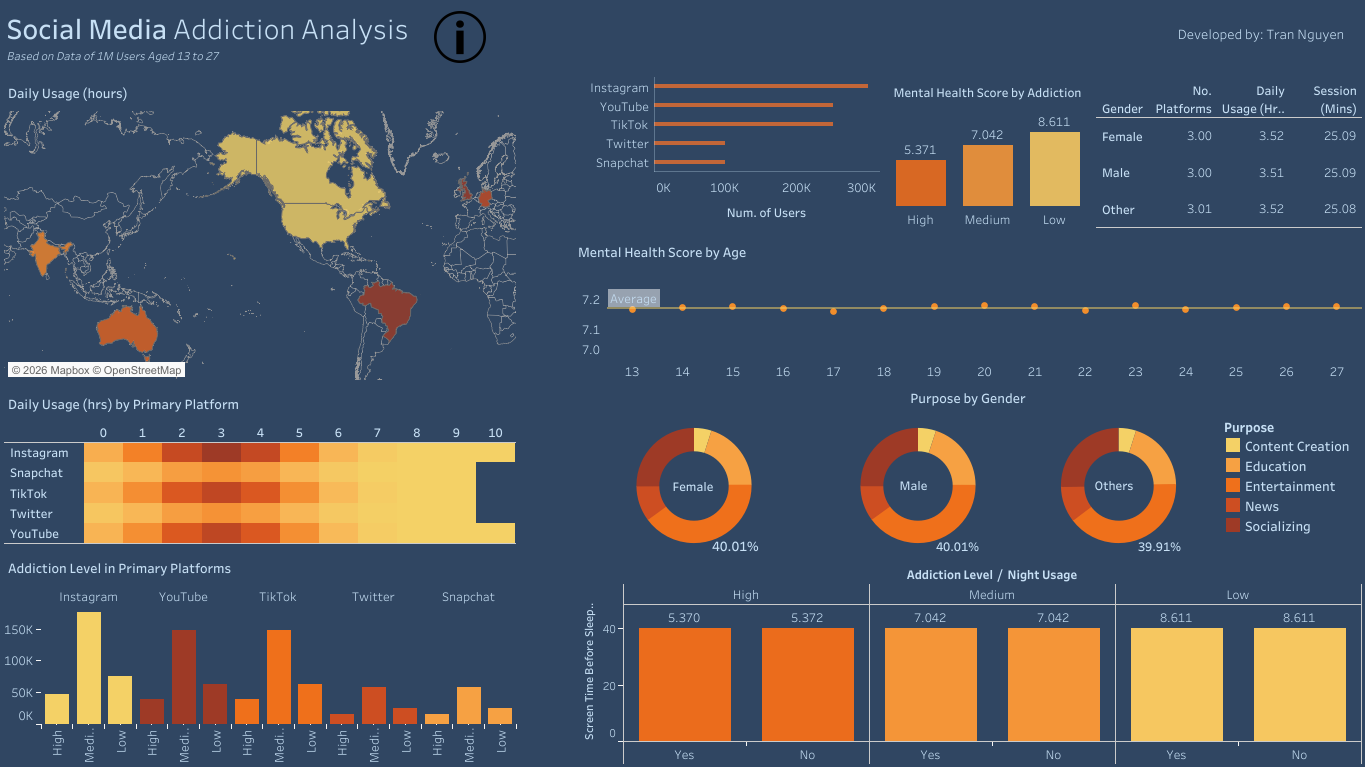

The dashboard page shown, as its layout file describes it:
{"tool":"tableau","page":{"name":"Dashboard 1","canvas":[1366,768],"ordinal":0},"visuals":[{"type":"text","box":[0,0,1366,73]},{"type":"dashboard-object","box":[423,11,74,52]},{"type":"worksheet","title":"Usage by Country","mark":"Automatic","box":[0,73,520,311]},{"type":"blank","box":[520,73,50,695]},{"type":"worksheet","title":"Acg Mental Health Score by Platforms","mark":"Bar","rows":["primary_platform"],"cols":["genz_social_media_usage_1M.csv_F48EEA701F0945E3A8766C4EE0268"],"box":[570,73,313,159]},{"type":"worksheet","title":"Mental Health by Additction Level","mark":"Automatic","rows":["mental_health_score"],"cols":["addiction_level"],"box":[883,73,208.8,159]},{"type":"worksheet","title":"Sheet 12","mark":"Automatic","rows":["gender"],"box":[1091.8,73,274,159]},{"type":"worksheet","title":"Mental Health and Usage by Age","mark":"Circle","rows":["mental_health_score"],"cols":["age"],"box":[570,232,795.8,152]},{"type":"worksheet","title":"Avg Daily Use by Platforms","mark":"Automatic","rows":["primary_platform"],"cols":["Daily Usage Hours (bin)"],"box":[0,384,520,164]},{"type":"text","box":[570,384,795.8,26]},{"type":"worksheet","title":"Female - Purpose","mark":"Circle","rows":["Calculation_4050307080613888","Calculation_4050307080642562"],"box":[570,410,248,149]},{"type":"worksheet","title":"Male - Purpose","mark":"Circle","rows":["Calculation_4050307080613888","Calculation_4050307080642562"],"box":[818,410,200.4,149]},{"type":"worksheet","title":" Others - Purpose","mark":"Circle","rows":["Calculation_4050307080613888","Calculation_4050307080642562"],"box":[1018.4,410,200.4,149]},{"type":"legend","title":"Female - Purpose","param":"[federated.0tp2vbs1anhawi13z0ggb0wdjuo1].[none:purpose:nk]","box":[1218.8,410,147,149]},{"type":"text","box":[897,464,63,42]},{"type":"text","box":[1092,464,61,42]},{"type":"text","box":[670,465,52,41]},{"type":"worksheet","title":"Addiction Level in Primary Platforms","mark":"Automatic","rows":["addiction_level"],"cols":["primary_platform","addiction_level"],"box":[0,548,520,220]},{"type":"worksheet","title":"Sheet 15","mark":"Automatic","rows":["screen_time_before_sleep"],"cols":["addiction_level","night_usage"],"box":[570,559,795.8,209]}]}

Visuals, with their boxes in screenshot pixels (x1, y1, x2, y2), scaled from the page's 1366x768 canvas onto the 1365x767 screenshot:
text: [0, 0, 1364, 73]
dashboard-object: [423, 11, 497, 63]
"Usage by Country" worksheet: [0, 73, 520, 384]
blank: [520, 73, 570, 766]
"Acg Mental Health Score by Platforms" worksheet (Bar marks): [570, 73, 882, 232]
"Mental Health by Additction Level" worksheet: [882, 73, 1091, 232]
"Sheet 12" worksheet: [1091, 73, 1364, 232]
"Mental Health and Usage by Age" worksheet (Circle marks): [570, 232, 1364, 384]
"Avg Daily Use by Platforms" worksheet: [0, 384, 520, 547]
text: [570, 384, 1364, 409]
"Female - Purpose" worksheet (Circle marks): [570, 409, 817, 558]
"Male - Purpose" worksheet (Circle marks): [817, 409, 1018, 558]
" Others - Purpose" worksheet (Circle marks): [1018, 409, 1218, 558]
"Female - Purpose" legend: [1218, 409, 1364, 558]
text: [896, 463, 959, 505]
text: [1091, 463, 1152, 505]
text: [670, 464, 721, 505]
"Addiction Level in Primary Platforms" worksheet: [0, 547, 520, 766]
"Sheet 15" worksheet: [570, 558, 1364, 766]
